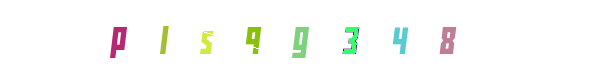3: (312, 0, 392, 80)
4: (360, 0, 440, 80)
8: (364, 0, 444, 80)
9: (255, 0, 335, 80)
G: (260, 0, 340, 80)
L: (166, 0, 246, 80)
P: (91, 0, 171, 80)
S: (183, 0, 263, 80)
